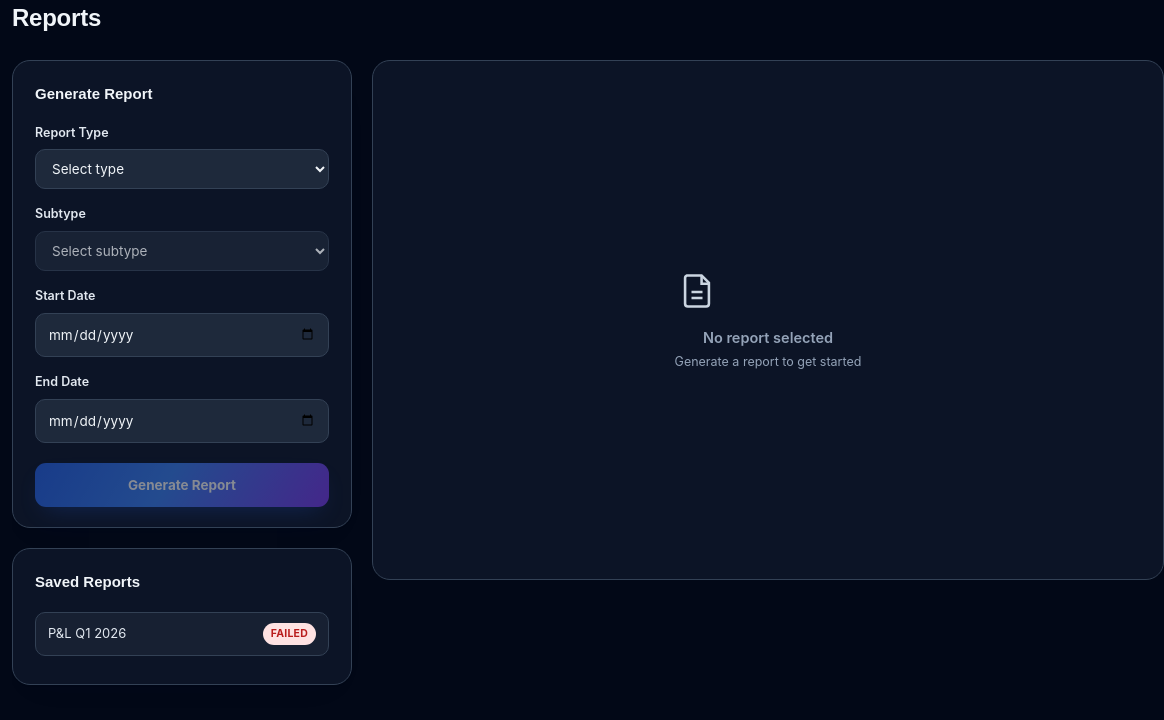
Test: FinlyHubReports › shows a failure state for failed reports
Expected: the text "FAILED" is shown, x1=263 y1=623 x2=316 y2=645
Click the text "P&L Q1 2026" at (87, 634), box x1=48 y1=624 x2=126 y2=643
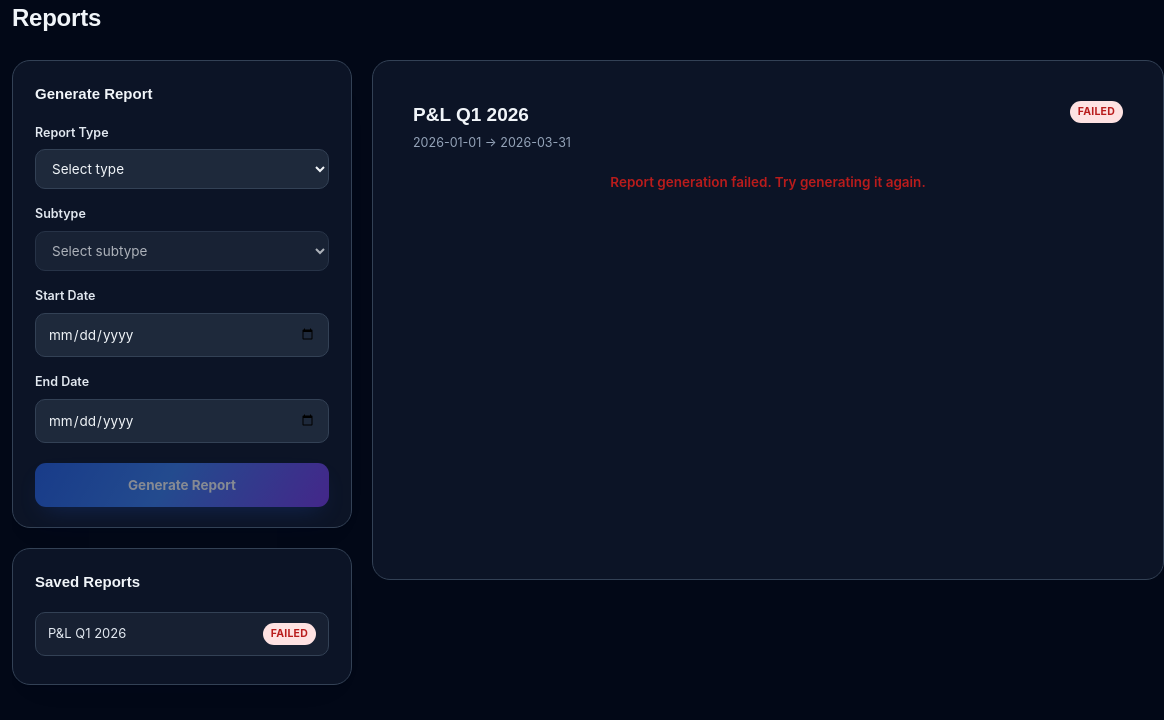
Expected: the text "Report generation failed. Try generating it again." is shown, x1=610 y1=174 x2=926 y2=190
